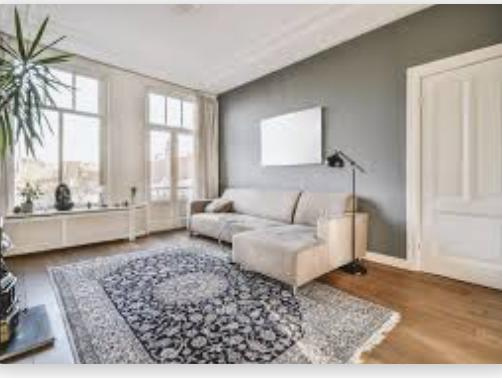carpet: (49, 245, 399, 363)
